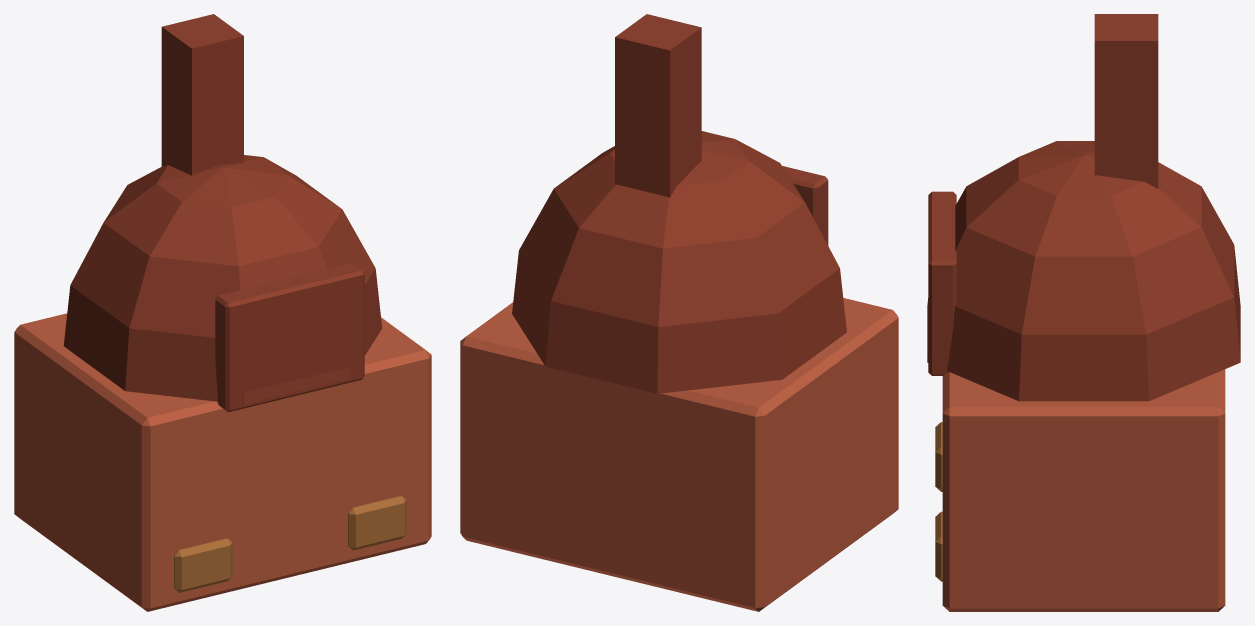
Rendered from PizzaOven.fbx.
3 views of the same model, side by side, from view 1: azimuth 30°, elevation 25°; view 2: azimuth 150°, elevation 25°; view 3: azimuth 270°, elevation 25° (orthographic). The views are drawn at different scales.
Visible parts, largest first — view 1: PizzaOven; view 2: PizzaOven; view 3: PizzaOven.
Boxes of the visible parts, x1,y1,x2,y2 form: PizzaOven: (14, 14, 431, 611); PizzaOven: (460, 14, 898, 611); PizzaOven: (927, 14, 1240, 611).
Size of the model in its own units: 5 by 8 by 4.43.
1 material, 1 textured.
